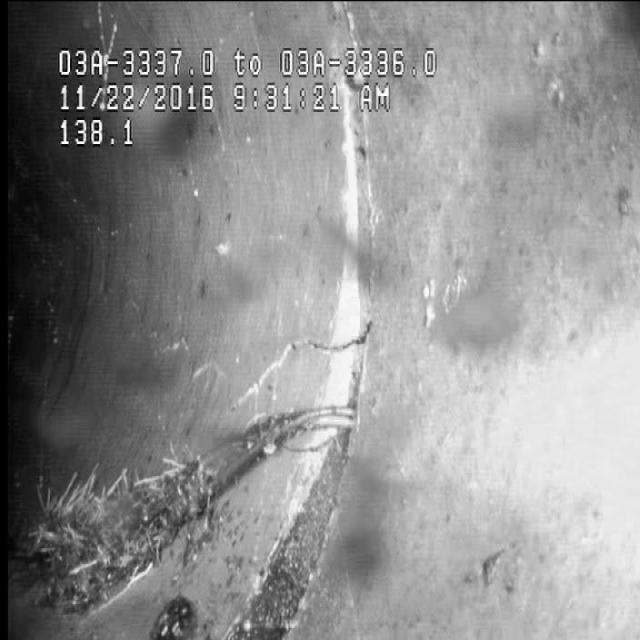Crack: (236, 302, 378, 404)
